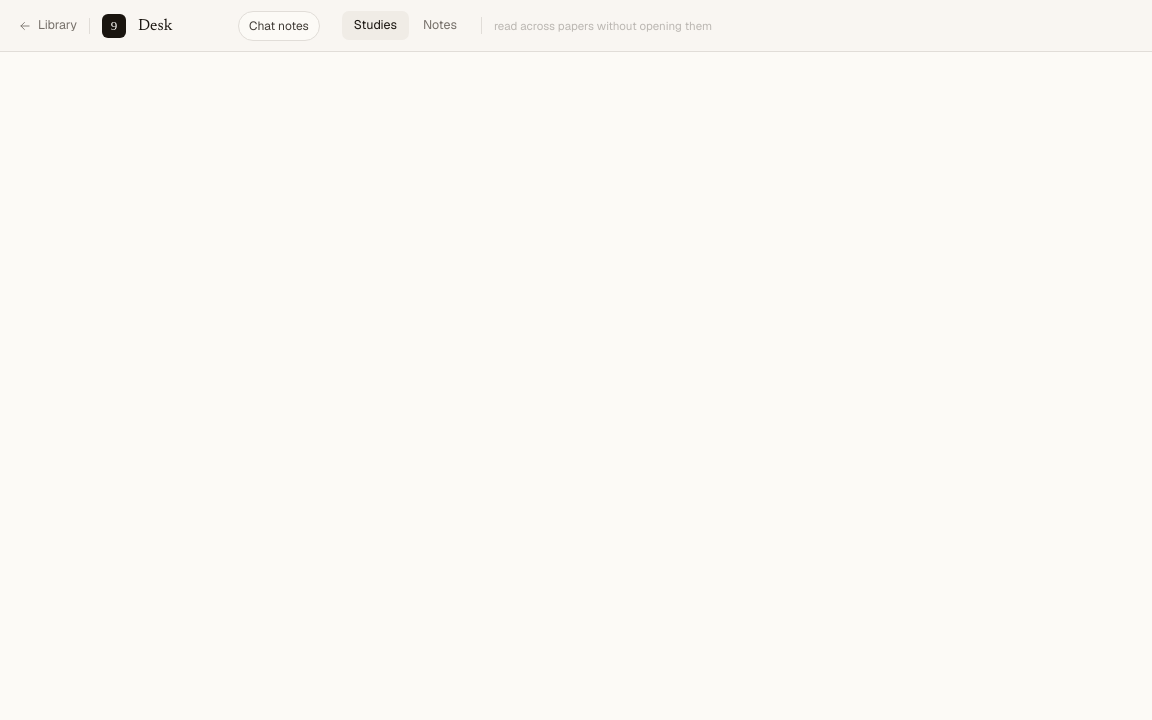
it: DeskView mobile rail motion › closes the chat StickyBoard drawer on Escape and restores focus
Step 1. Click the button "Chat notes" → (279, 26), box x1=238 y1=10 x2=320 y2=40
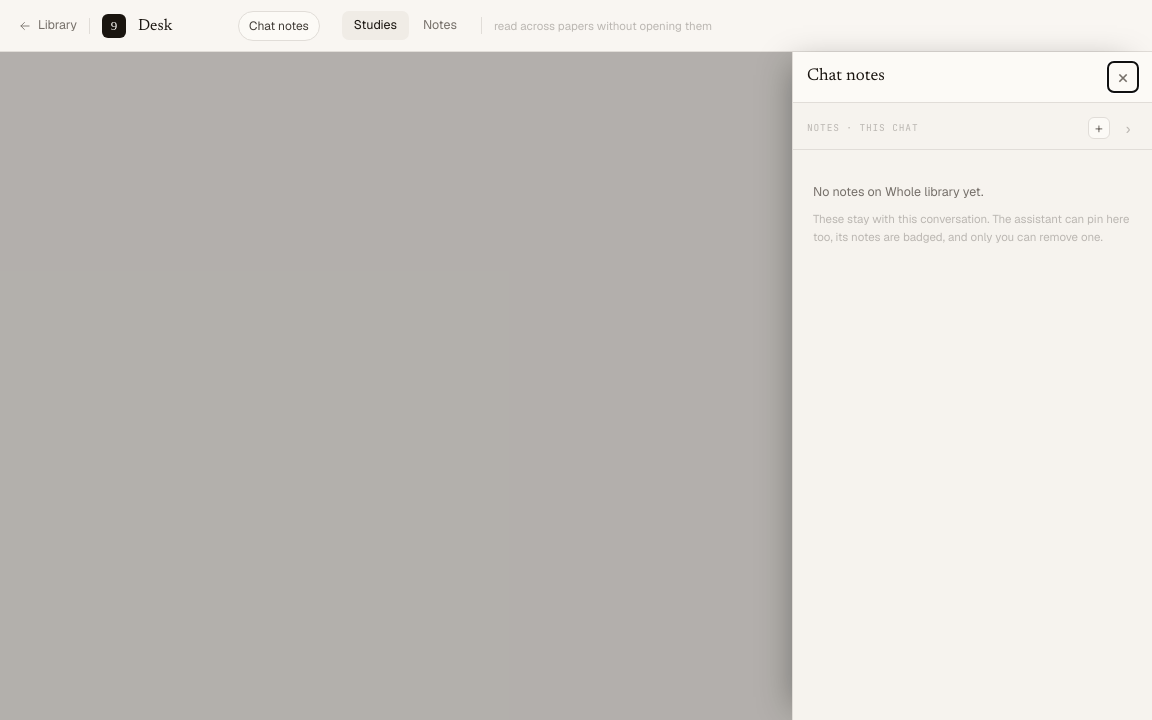
Step 2. Press Escape in the dialog "Chat notes", box x1=792 y1=52 x2=1151 y2=719
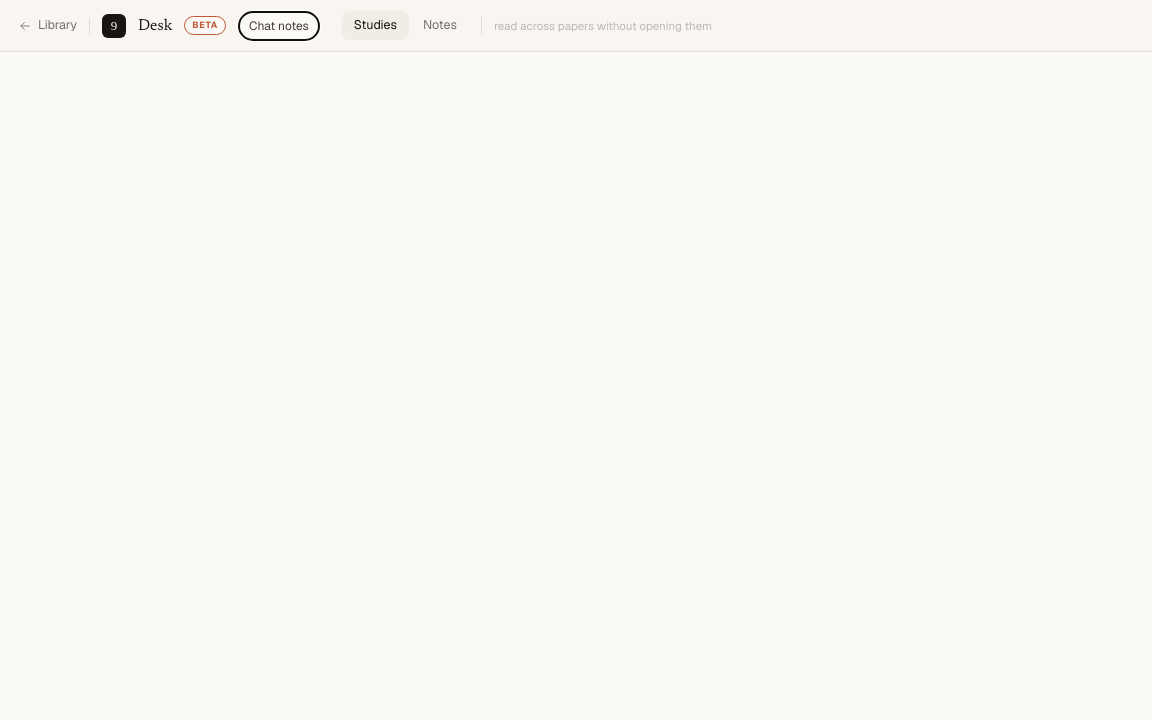
expect the button "Chat notes" is collapsed: met, box x1=238 y1=10 x2=320 y2=40
